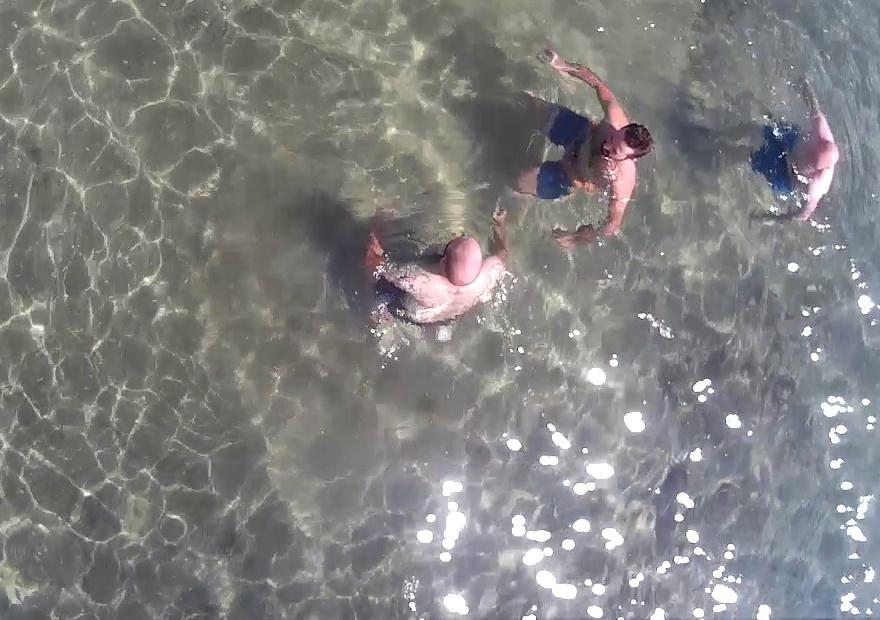human: (510, 27, 638, 260), (350, 181, 508, 338), (724, 65, 844, 246)
